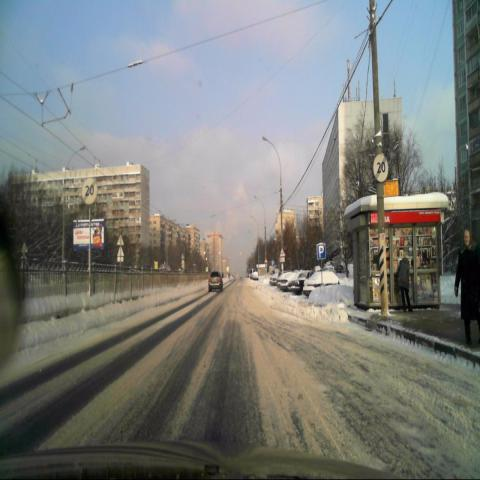3_25: (81, 176, 98, 206), (372, 152, 389, 182)
